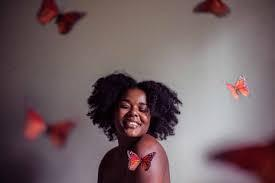Persons: (90, 67, 188, 153)
